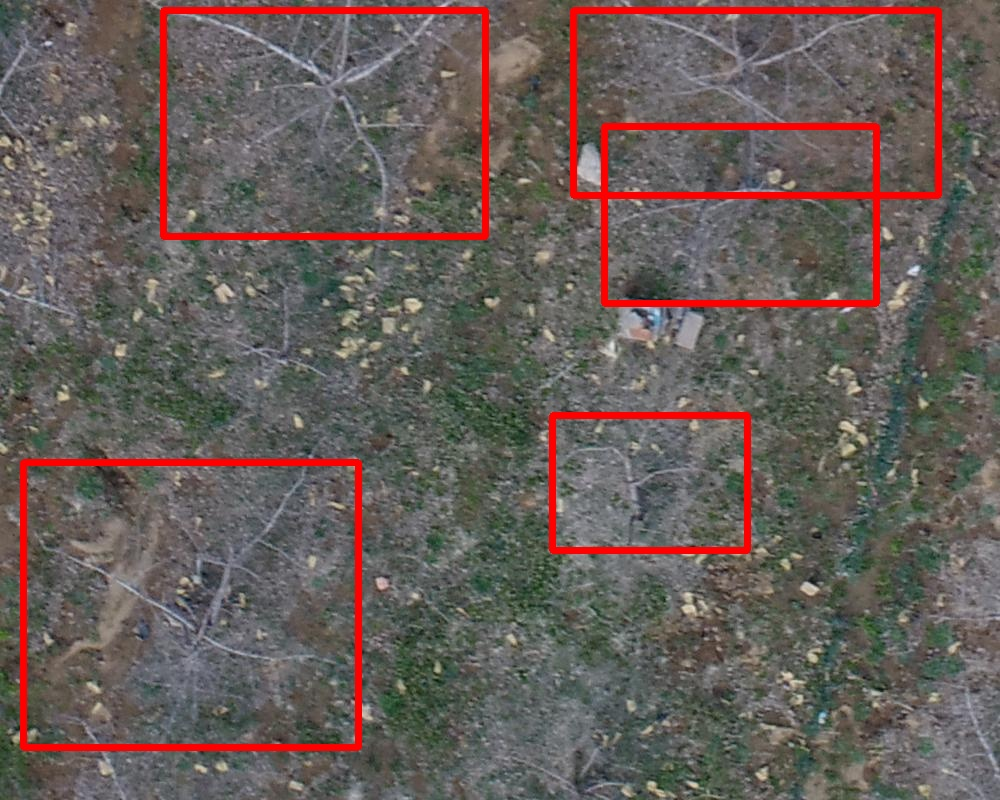apple: (23, 462, 358, 747), (163, 10, 485, 236), (573, 10, 938, 195), (604, 126, 876, 303), (552, 415, 747, 550)
